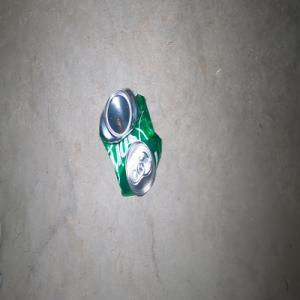SodaCan: (99, 87, 161, 196)
